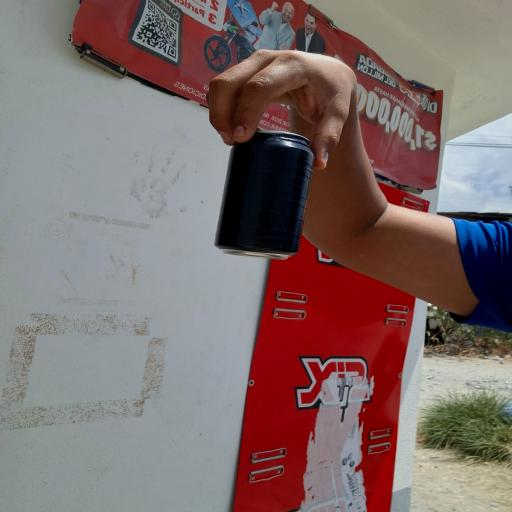LATA: (198, 128, 318, 266), (321, 134, 323, 134)
